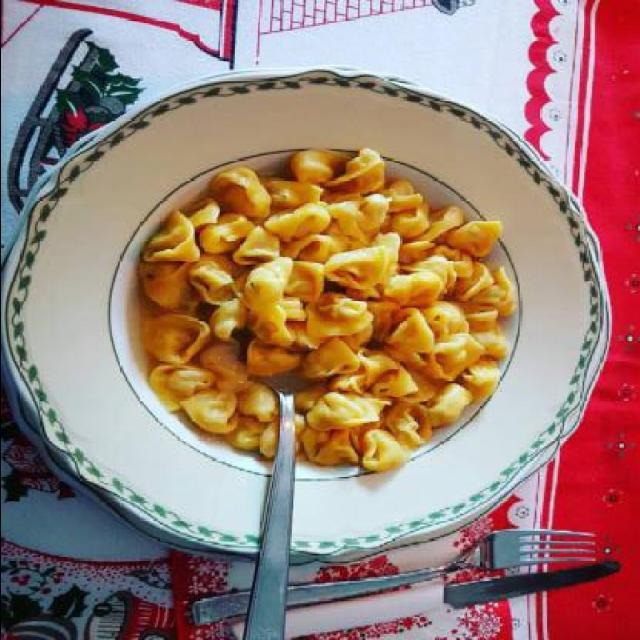Tortellini in broth: (128, 147, 514, 476)
